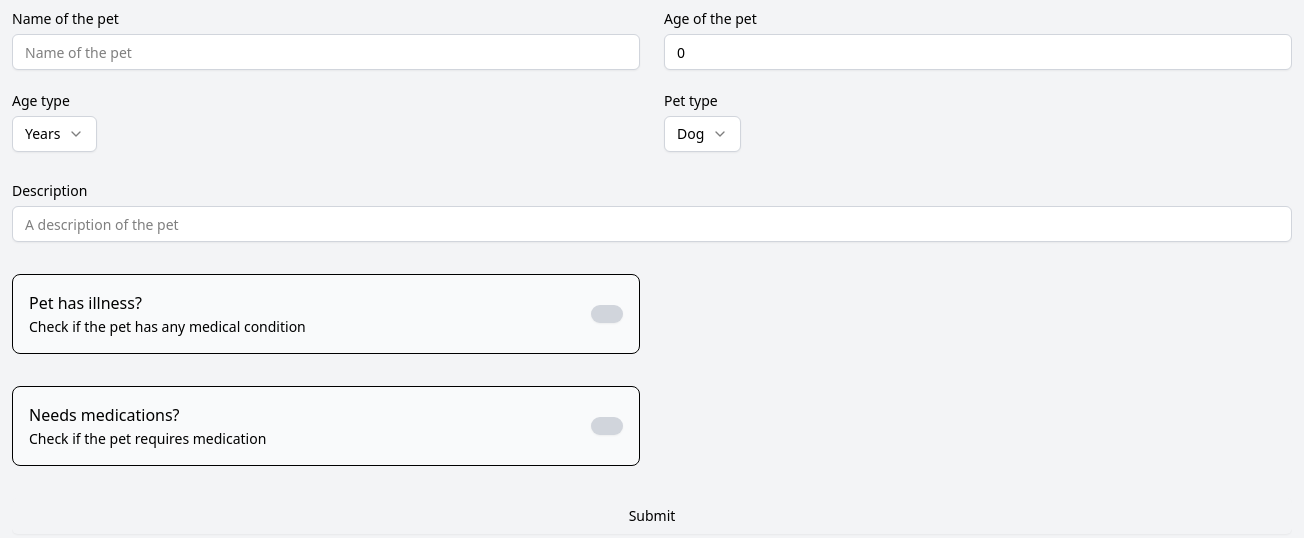
Scenario: Post pet form tests › Should show illness description field when hasIllness is checked
Expected: the text "Illness Description" is not shown
Click the switch named "pet has illness" in the row of "Pet has illness?" at (607, 314), box [591,305,623,323]
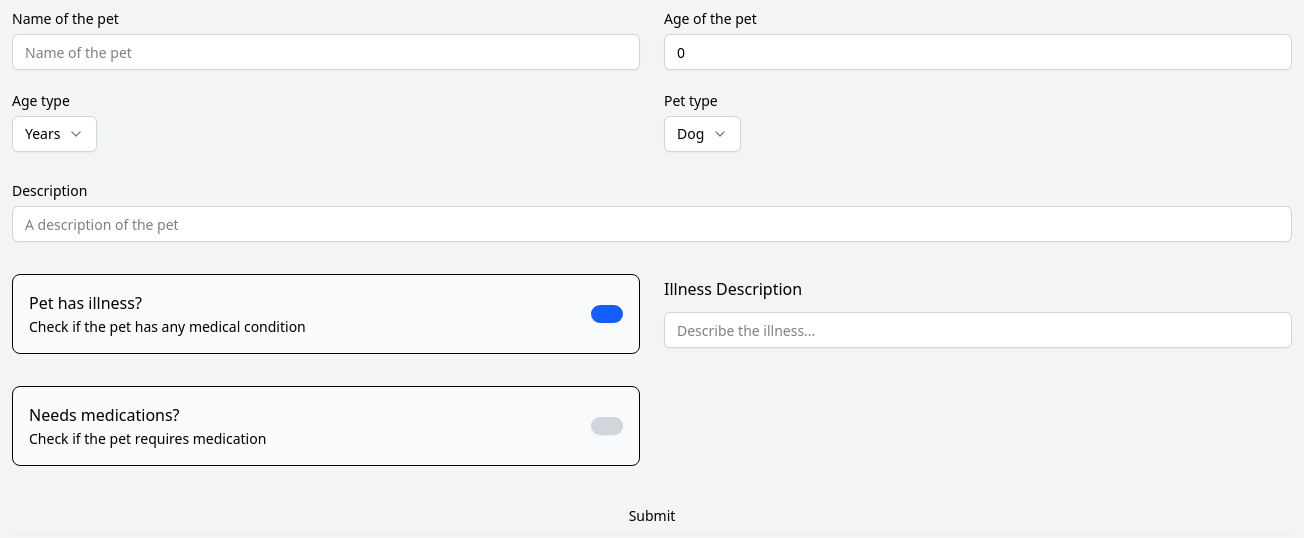
Expected: the text "Illness Description" is shown, [664,278,802,300]
